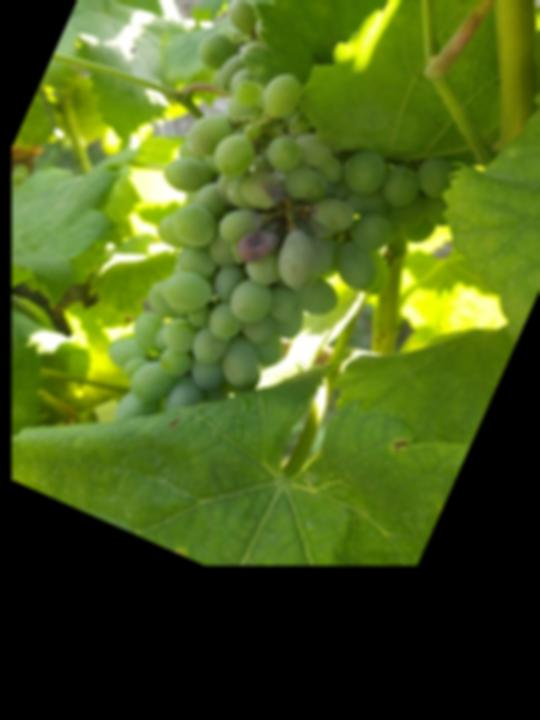grape: (43, 0, 499, 519)
